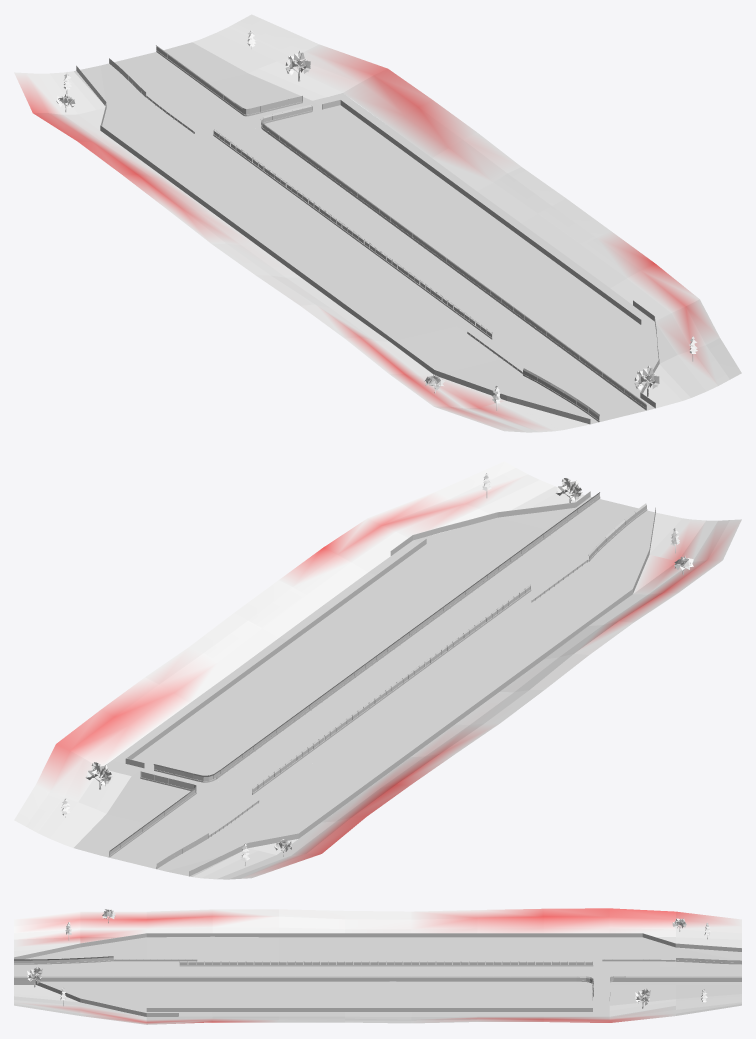
The picture shows the model from 3 angles, top to bottom: view 1: azimuth 30°, elevation 25°; view 2: azimuth 150°, elevation 25°; view 3: azimuth 270°, elevation 25°; orthographic projection. The views are drawn at different scales.
Visible parts, largest first — view 1: Track, Grass, Road, Wirefence, Trees; view 2: Track, Grass, Road, Wirefence, Trees; view 3: Track, Grass, Road, Wirefence, Trees.
Boxes of the visible parts, x1=… form: Track: x1=74, y1=42, x2=659, y2=424; Grass: x1=14, y1=14, x2=741, y2=432; Road: x1=114, y1=52, x2=654, y2=422; Wirefence: x1=109, y1=45, x2=646, y2=420; Trees: x1=56, y1=30, x2=697, y2=410; Track: x1=74, y1=491, x2=655, y2=876; Grass: x1=14, y1=461, x2=741, y2=879; Road: x1=105, y1=499, x2=638, y2=868; Wirefence: x1=109, y1=492, x2=646, y2=868; Trees: x1=61, y1=473, x2=693, y2=865; Track: x1=14, y1=933, x2=741, y2=1016; Grass: x1=14, y1=908, x2=741, y2=1024; Road: x1=14, y1=961, x2=741, y2=1016; Wirefence: x1=14, y1=956, x2=741, y2=996; Trees: x1=27, y1=908, x2=710, y2=1008.
Size of what is drawn, in the model's own units: 18296 by 1841 by 50000.
